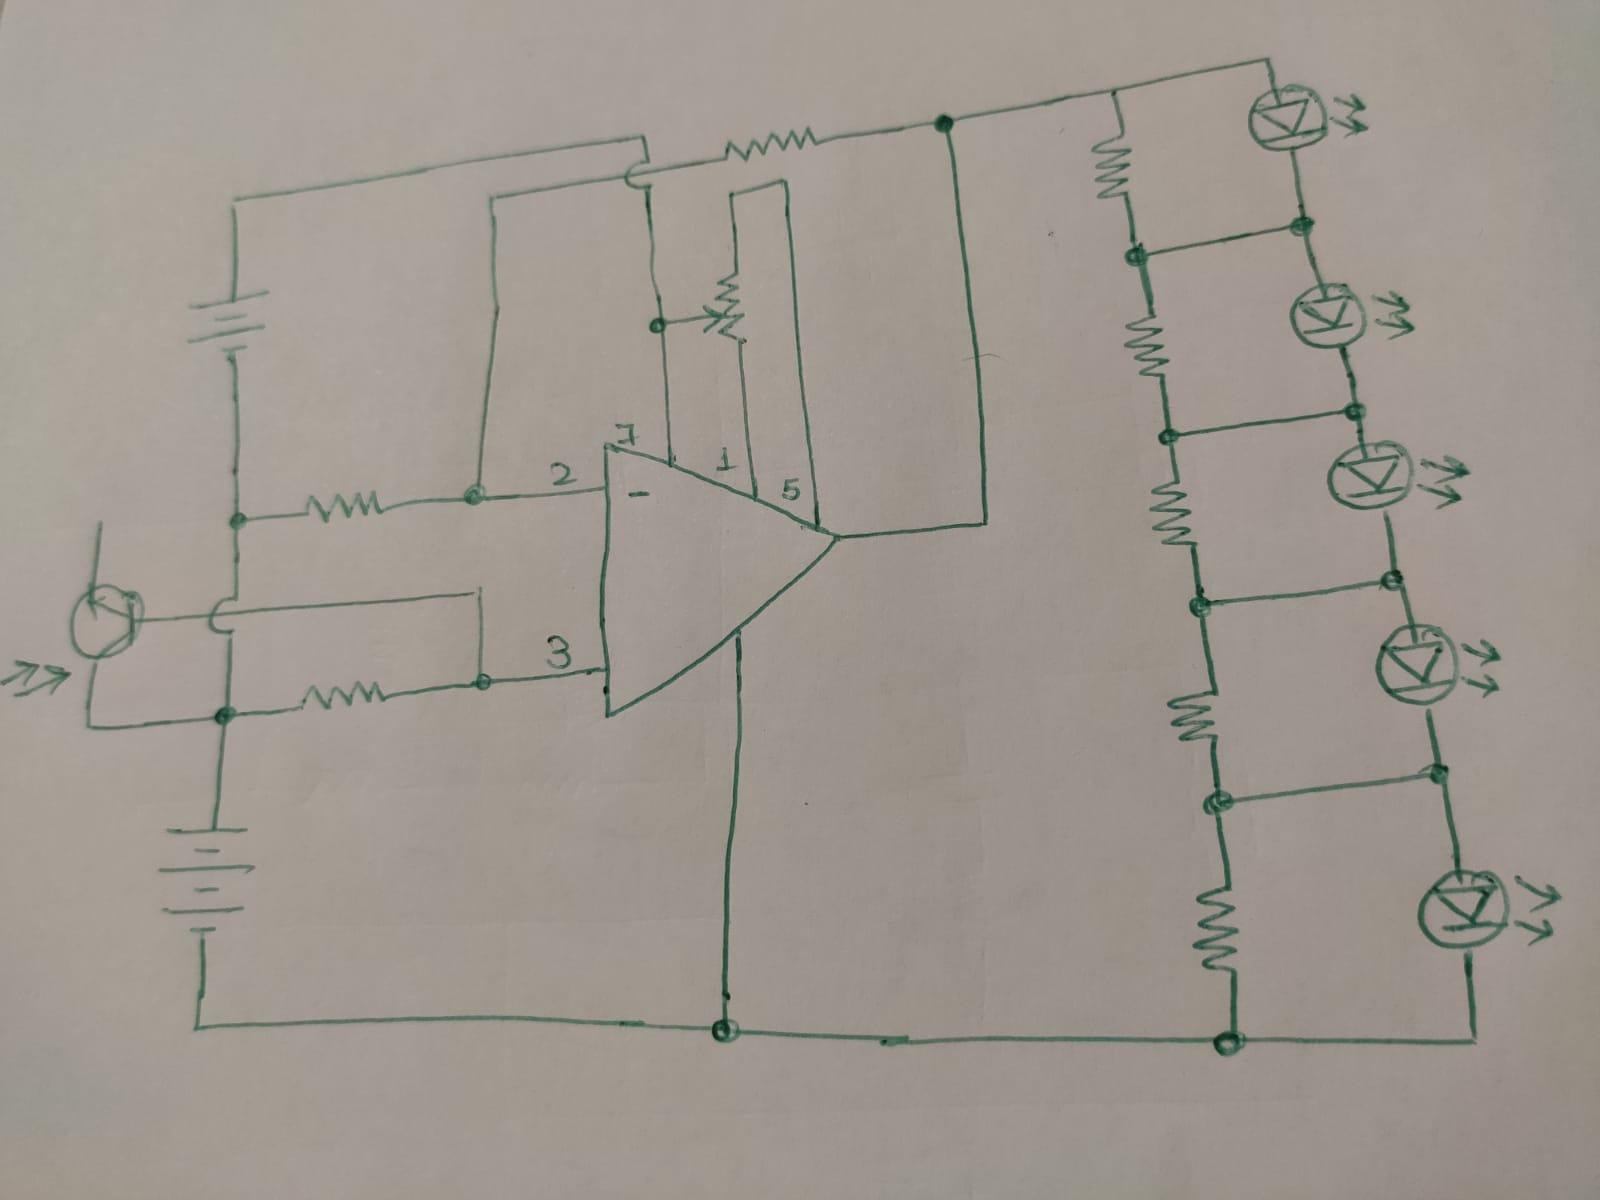crossover: (205, 592, 244, 642), (622, 154, 658, 194)
diode.light_emitting: (1414, 858, 1558, 963), (1374, 618, 1503, 708), (1322, 435, 1469, 513), (1243, 77, 1374, 158), (1288, 279, 1419, 352)
junction: (1197, 780, 1243, 823), (1209, 1018, 1252, 1058), (706, 1011, 750, 1046), (1415, 753, 1456, 789), (1186, 587, 1221, 625), (207, 696, 241, 732), (1117, 239, 1154, 274), (1283, 208, 1319, 242), (1377, 558, 1406, 599), (930, 108, 963, 144), (459, 478, 491, 511), (1151, 420, 1182, 451), (467, 663, 493, 700), (1460, 1024, 1489, 1054), (643, 313, 674, 340), (224, 508, 257, 534), (1340, 397, 1371, 422), (971, 511, 997, 534), (186, 1015, 210, 1039), (1101, 81, 1126, 103), (467, 580, 490, 604), (1257, 48, 1279, 73), (224, 194, 244, 216), (81, 715, 100, 736), (776, 173, 795, 192), (483, 192, 501, 209), (634, 129, 651, 147), (724, 187, 740, 204)
operational_amplifier: (590, 435, 845, 724)
resistor: (1188, 881, 1243, 976), (1145, 471, 1198, 550), (1163, 684, 1230, 746), (1091, 129, 1138, 205), (1123, 308, 1172, 379), (716, 127, 816, 159), (296, 681, 391, 711), (299, 492, 387, 521)
resistor.adjustable: (690, 270, 748, 349)
terminal: (91, 512, 113, 534)
text: (544, 632, 573, 671), (712, 442, 742, 474), (549, 458, 580, 488), (615, 421, 643, 450), (779, 475, 804, 503), (625, 488, 653, 500)
transistor.photo: (8, 580, 152, 701)
voltage.dc: (159, 816, 253, 943), (186, 290, 272, 362)
